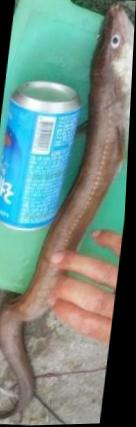fish: (0, 9, 134, 418)
